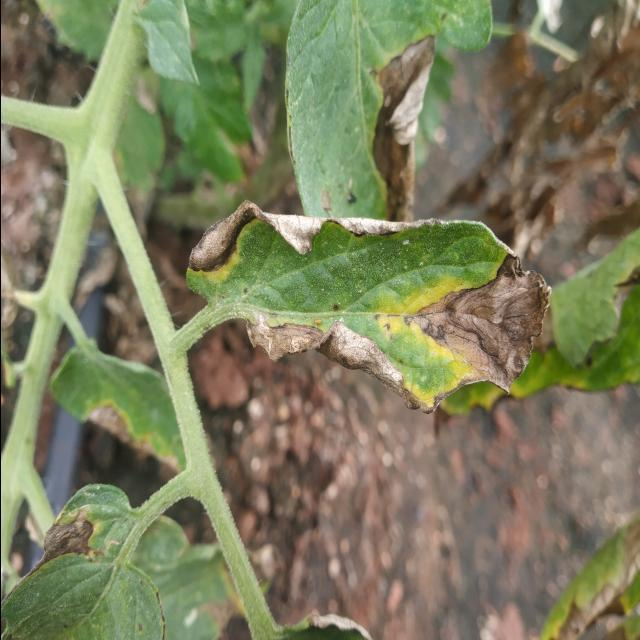Tomato mosaic virus leaf: (178, 190, 556, 423), (0, 479, 138, 640)
